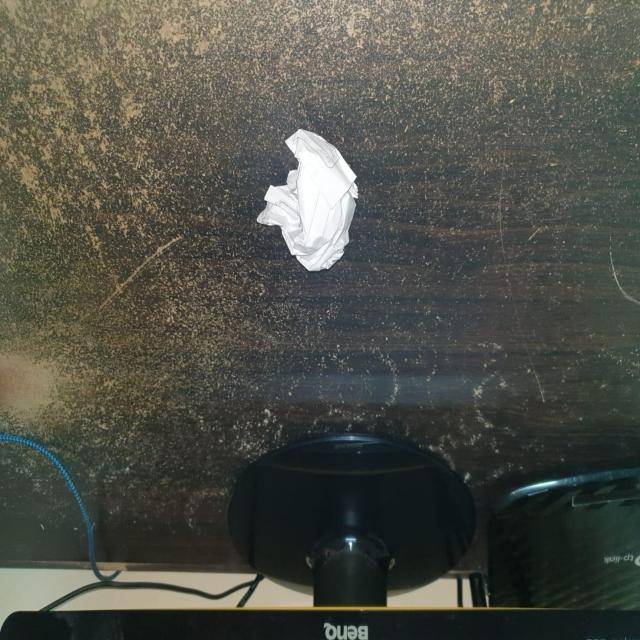kertas: (256, 120, 356, 272)
